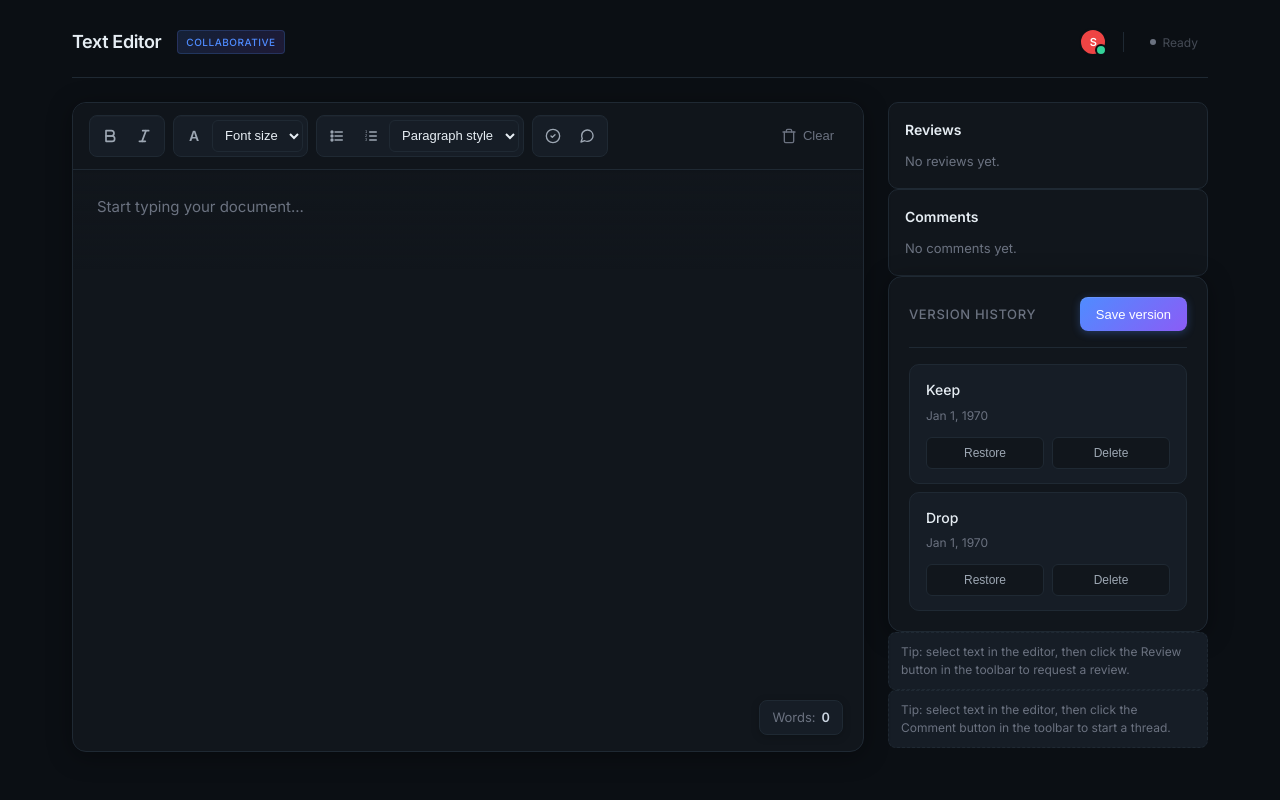
Test case: App — Requirement 7: version history end-to-end › deletes a version after confirmation
The width and height of the screenshot is (1280, 800).
Expected: the text "Drop" is shown, [926,509,958,526]
Click the button "Delete" below "Drop". click: [1111, 580]
box: [1052,564,1170,596]
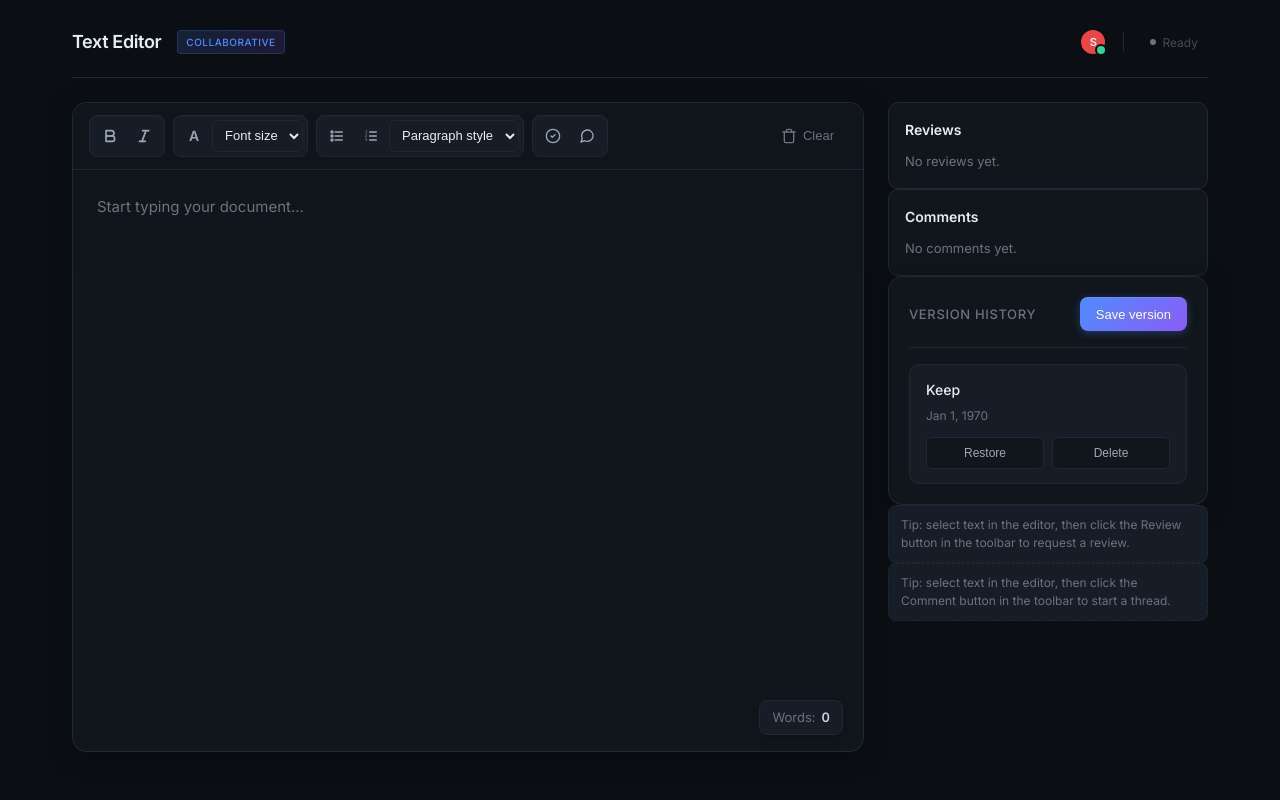
Expected: the text "Keep" is shown, [926,381,960,398]
Expected: the text "Drop" is gone
